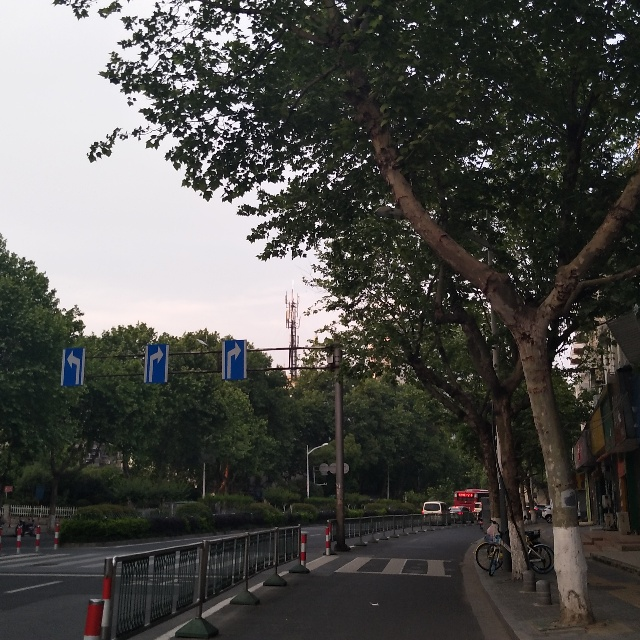left: (59, 345, 87, 387)
right: (220, 336, 249, 380), (143, 345, 171, 386)
